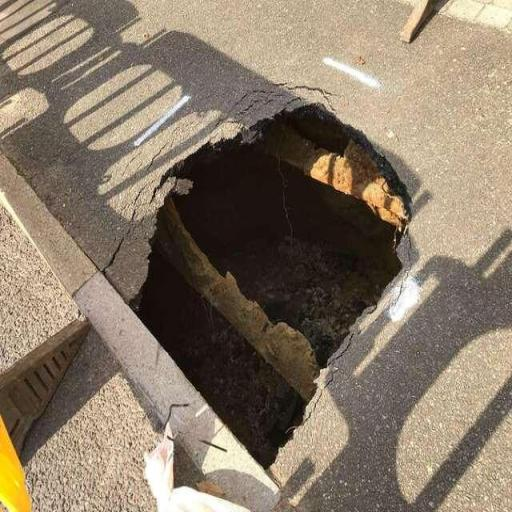Concentric_Crack: (129, 105, 410, 466)
